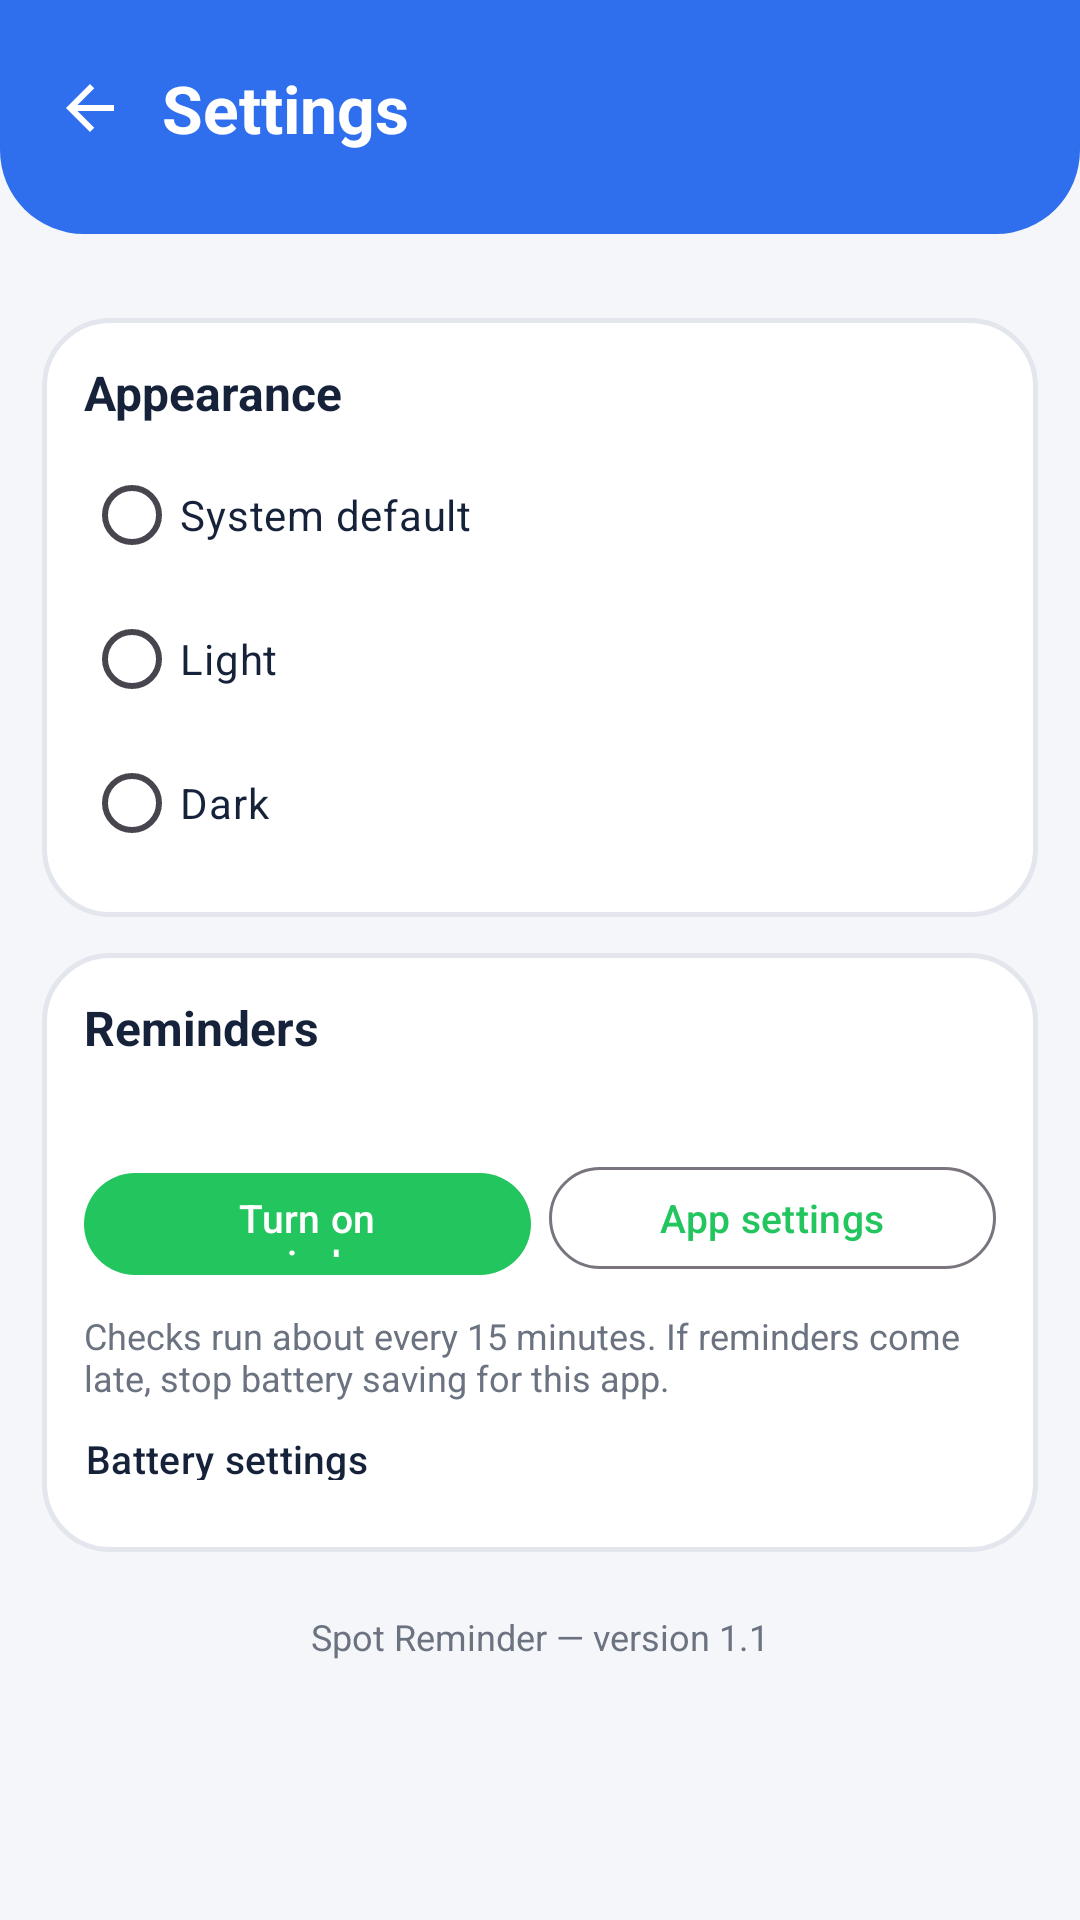

Named icons in this screenshot (1080px×1920px) and their centers, (x,y):
Back: (90,108)
